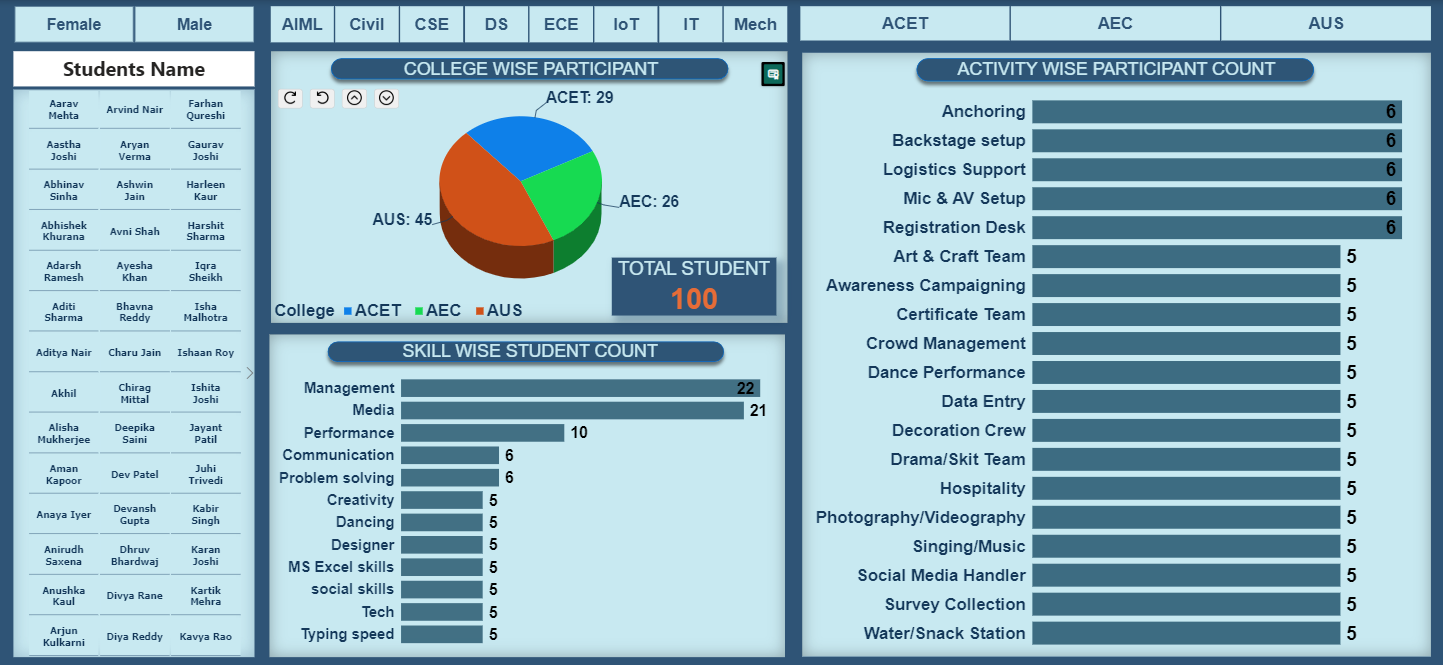

The page's visual inventory and layout, read from the dashboard file:
{"tool":"powerbi","page":{"name":"Page 1","canvas":[1949,897],"ordinal":0},"visuals":[{"type":"shape","box":[366,70,696,366],"z":0},{"type":"slicer","fields":{"Values":["Sheet1.College"]},"box":[1060,7.5,890,50],"z":1000},{"type":"shape","box":[437.5,70,555,47.5],"z":2000},{"type":"slicer","fields":{"Values":["Sheet1.Branch"]},"box":[345,7.5,736.2,52.5],"z":3000},{"type":"shape","box":[365,450,695,435],"z":4000},{"type":"shape","box":[433.3,450,553.3,46.7],"z":5000},{"type":"clusteredBarChart","title":"SKILL WISE STUDENT COUNT","fields":{"Category":["Sheet1.Skills"],"Y":["CountNonNull(Sheet1.Roll Number)"]},"box":[370,460,690,425],"z":6000},{"type":"shape","box":[1081.8,70.5,847.7,813.6],"z":7000},{"type":"shape","box":[1227.5,70,555,50],"z":8000},{"type":"clusteredBarChart","title":"ACTIVITY WISE PARTICIPANT COUNT","fields":{"Category":["Sheet1.Activities"],"Y":["CountNonNull(Sheet1.Roll Number)"]},"box":[1100,80,812.5,805],"z":9000},{"type":"card","title":"TOTAL STUDENT","fields":{"Values":["CountNonNull(Sheet1.S. No.)"]},"box":[826.7,346.7,221.7,78.3],"z":10000},{"type":"pieChartNewAA90D11FDE2D45BBADC4383C1313084F","title":"COLLEGE WISE PARTICIPANT","fields":{"category":["Sheet1.College"],"measure":["CountNonNull(Sheet1.S. No.)"]},"box":[371.1,78.9,692.1,357.9],"z":10500},{"type":"slicer","fields":{"Values":["Sheet1.Student name"]},"box":[20,120,325,765],"z":11000},{"type":"textbox","box":[20,70,325,47.5],"z":12000},{"type":"slicer","fields":{"Values":["Sheet1.Gender"]},"box":[0,7.3,362.7,52.7],"z":13000}]}

Visuals, with their boxes in screenshot pixels (x1, y1, x2, y2), scaled from the page's 1949x897 canvas onto the 1443x665 screenshot:
shape: detection(271, 52, 786, 323)
slicer - Sheet1.College: detection(785, 6, 1442, 43)
shape: detection(324, 52, 735, 87)
slicer - Sheet1.Branch: detection(255, 6, 800, 44)
shape: detection(270, 334, 785, 656)
shape: detection(321, 334, 730, 368)
"SKILL WISE STUDENT COUNT" clusteredBarChart: detection(274, 341, 785, 656)
shape: detection(801, 52, 1429, 655)
shape: detection(909, 52, 1320, 89)
"ACTIVITY WISE PARTICIPANT COUNT" clusteredBarChart: detection(814, 59, 1416, 656)
"TOTAL STUDENT" card: detection(612, 257, 776, 315)
"COLLEGE WISE PARTICIPANT" pieChartNewAA90D11FDE2D45BBADC4383C1313084F: detection(275, 58, 787, 324)
slicer - Sheet1.Student name: detection(15, 89, 255, 656)
textbox: detection(15, 52, 255, 87)
slicer - Sheet1.Gender: detection(0, 5, 269, 44)
